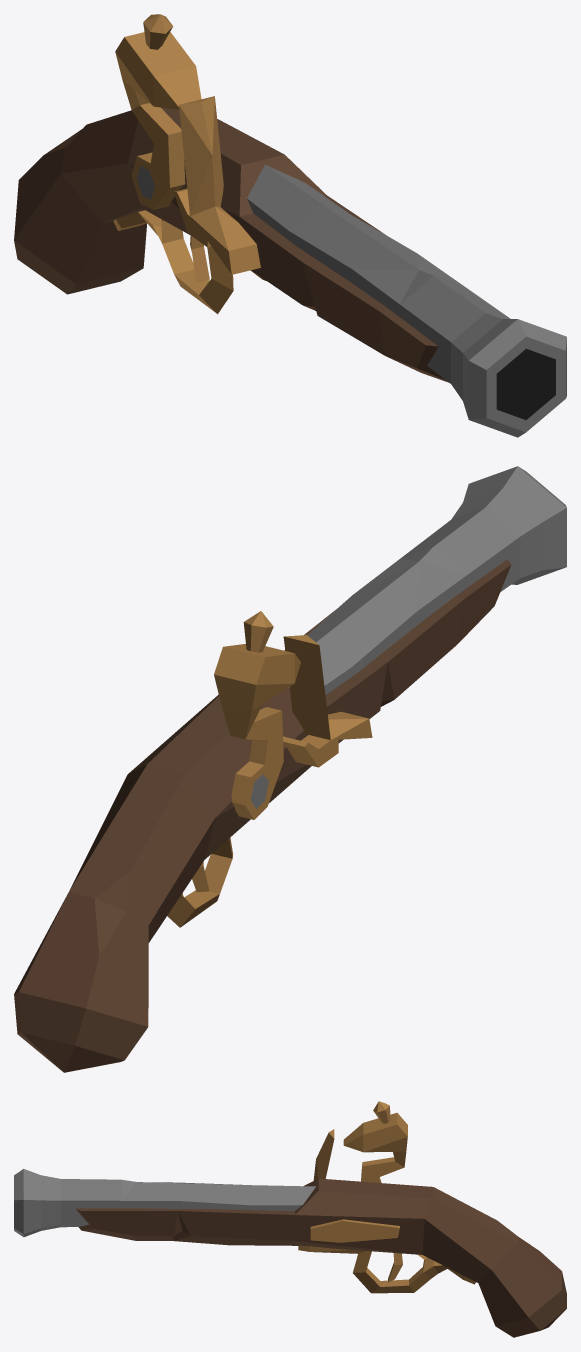
The model's file is SM_Wep_MusketPistol_04.glb.
The picture shows the model from 3 angles, top to bottom: view 1: azimuth 30°, elevation 25°; view 2: azimuth 150°, elevation 25°; view 3: azimuth 270°, elevation 25°; orthographic projection. The views are drawn at different scales.
Visible parts, largest first — view 1: SM_Wep_MusketPistol_080; view 2: SM_Wep_MusketPistol_080; view 3: SM_Wep_MusketPistol_080.
Part boxes in pixels (x1,y1,x2,y2): SM_Wep_MusketPistol_080: (14,14,566,437); SM_Wep_MusketPistol_080: (14,466,566,1072); SM_Wep_MusketPistol_080: (14,1101,566,1337).
Size of the model in its own units: 0.000955 by 0.00246 by 0.00574.
